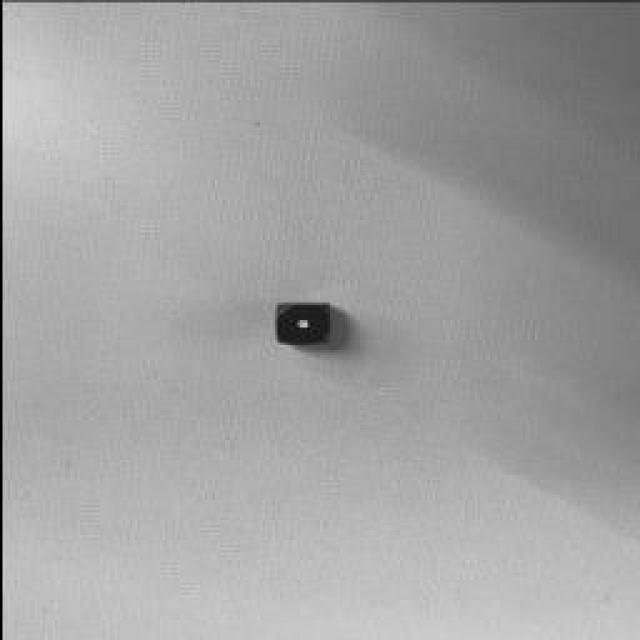dice_1: (274, 304, 328, 344)
